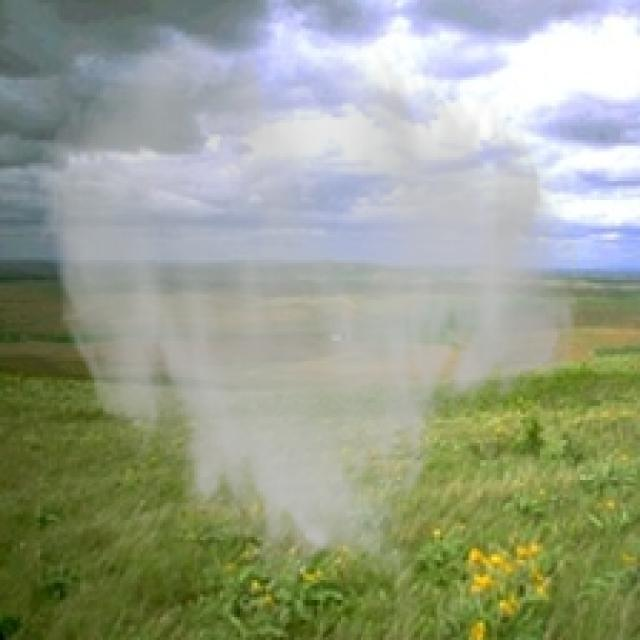Smoke: (31, 29, 586, 592)
